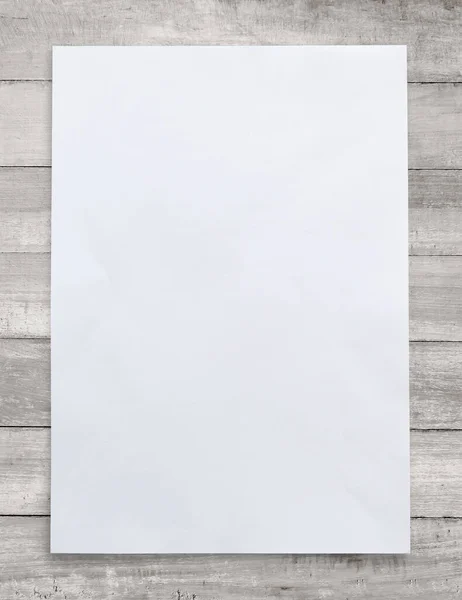page: (53, 48, 408, 553)
